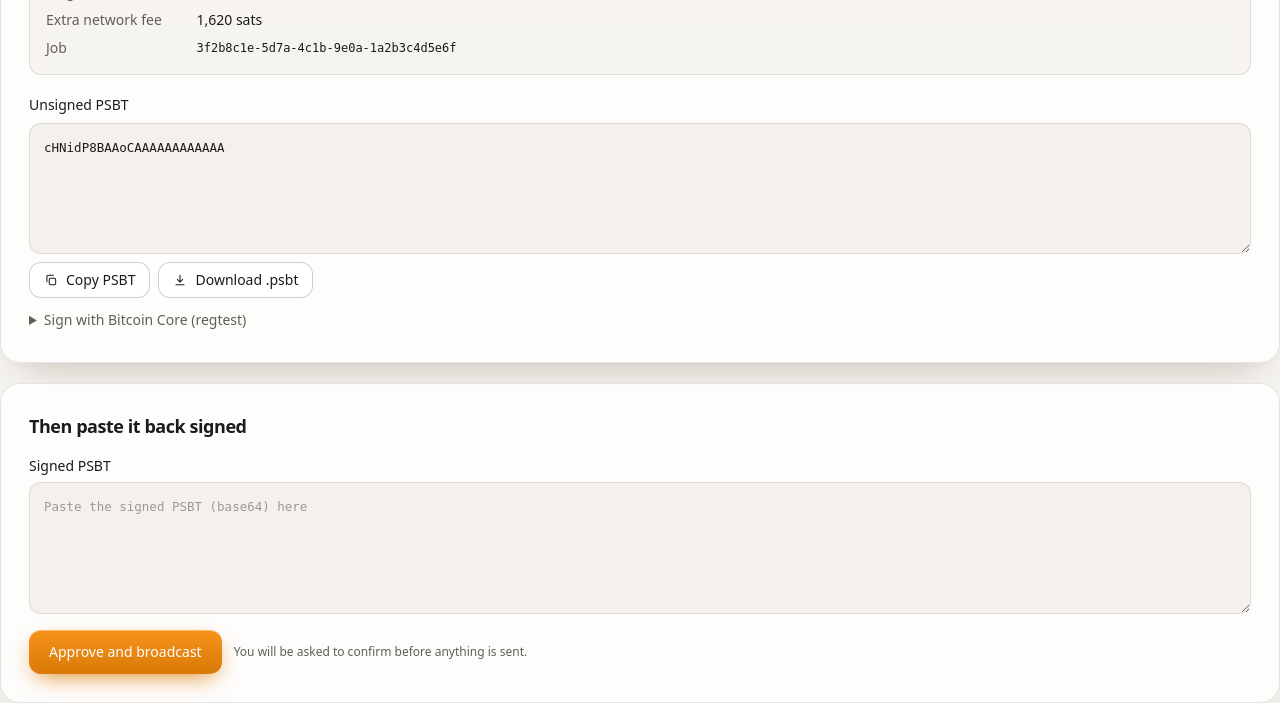
Scenario: Handoff approval › keeps the modal open and shows the reason when the API refuses
(page scrolled)
Type "c2lnbmVkLXBzYnQ=" into the text box labelled "Signed PSBT" at [640, 548], box [29,482,1251,614]
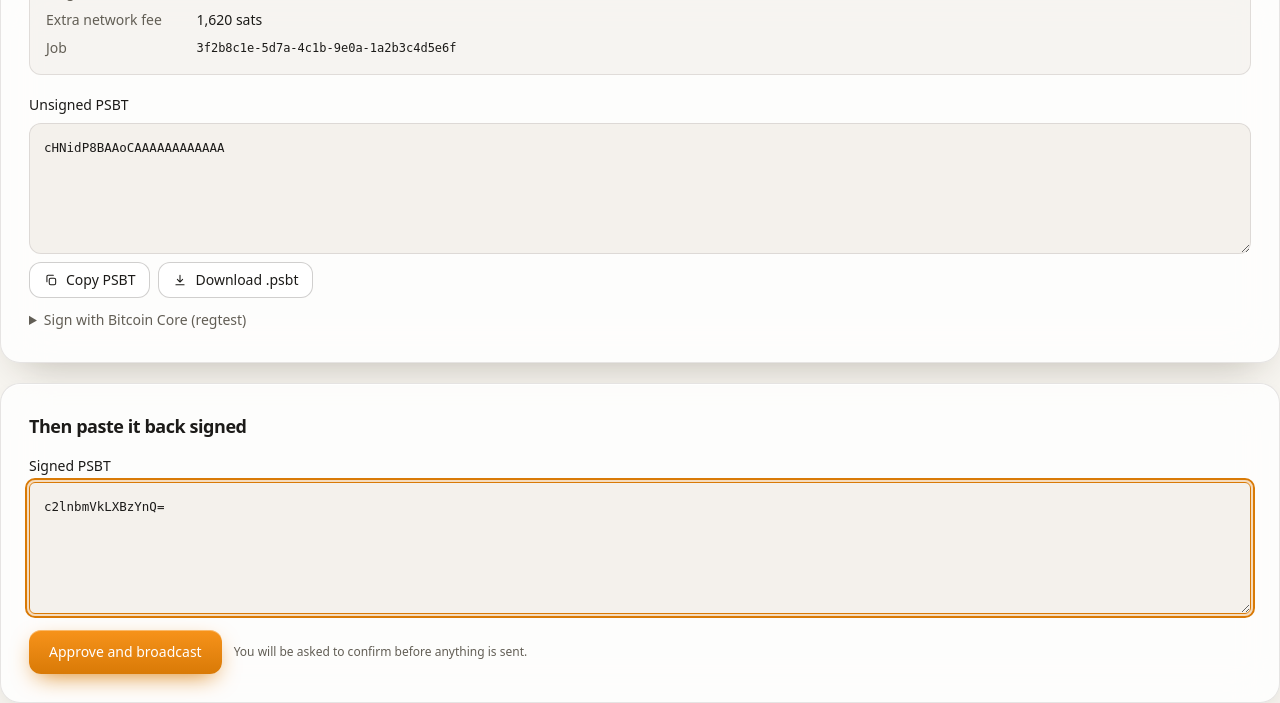
Click the button "Approve and broadcast" at [125, 652], box [29,630,222,674]
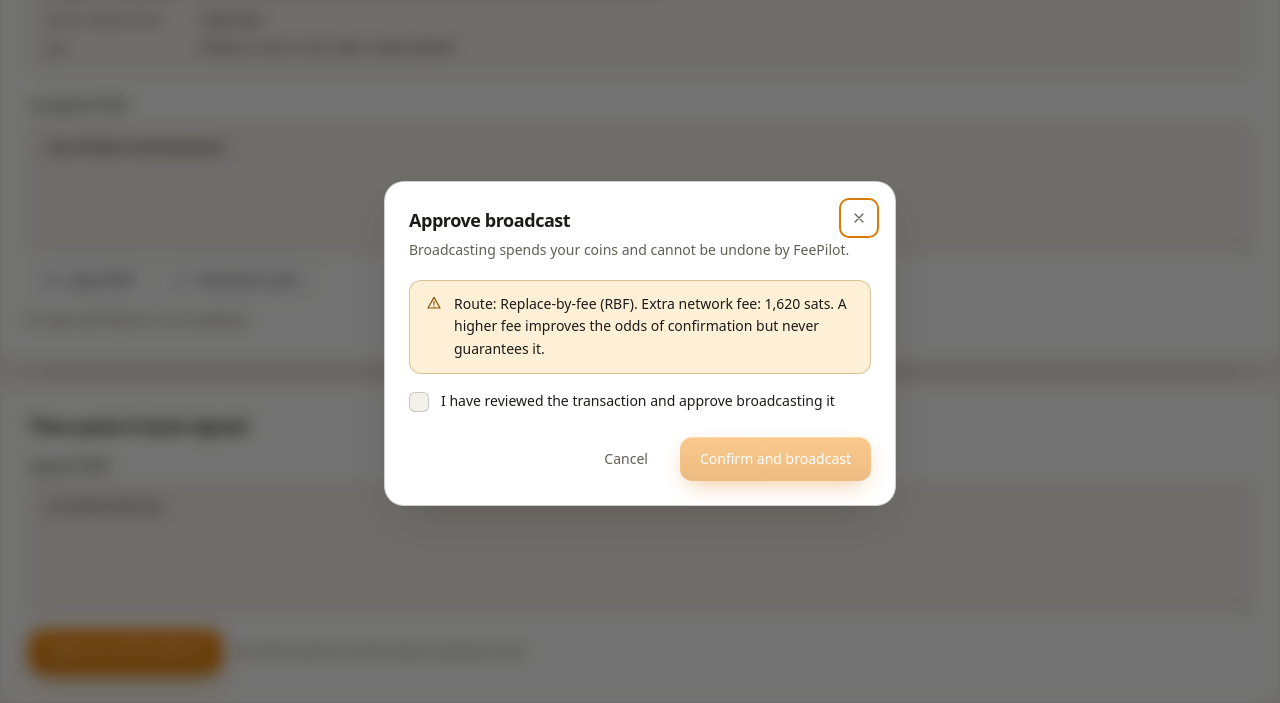
Click the checkbox at [419, 402], box [409,392,429,412]
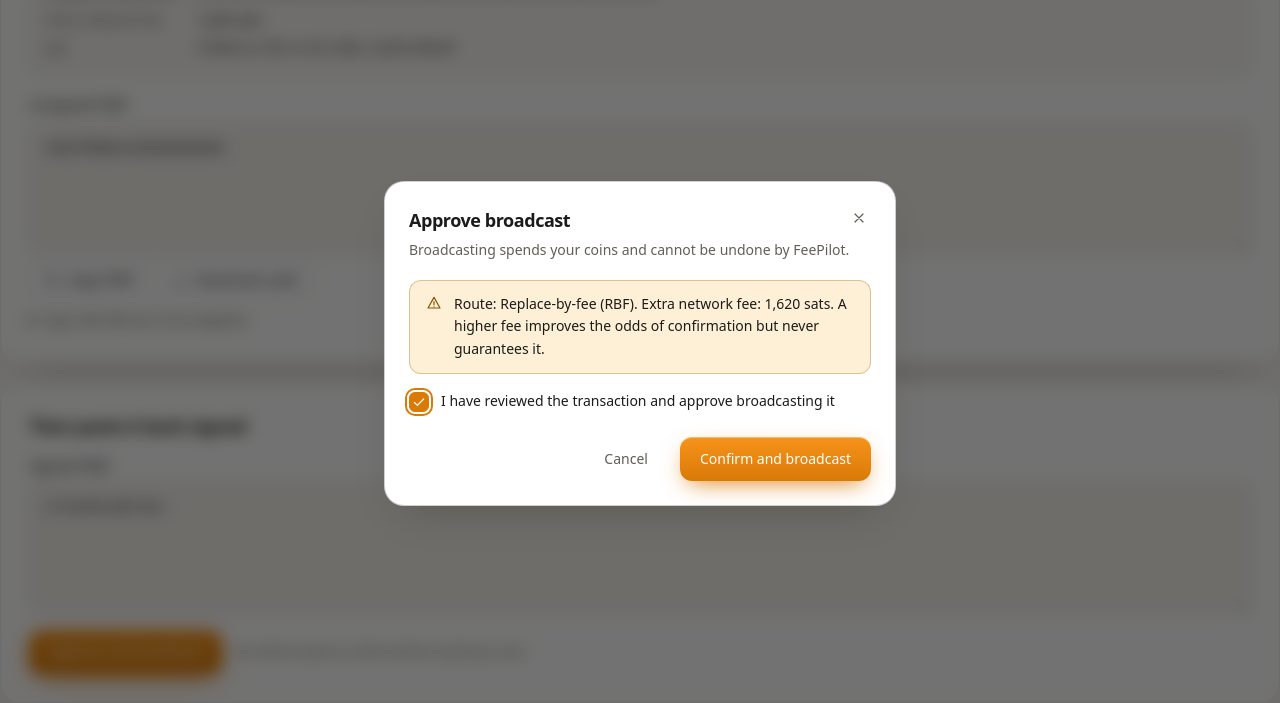
Click the button "Confirm and broadcast" at [776, 458], box [680,436,871,480]
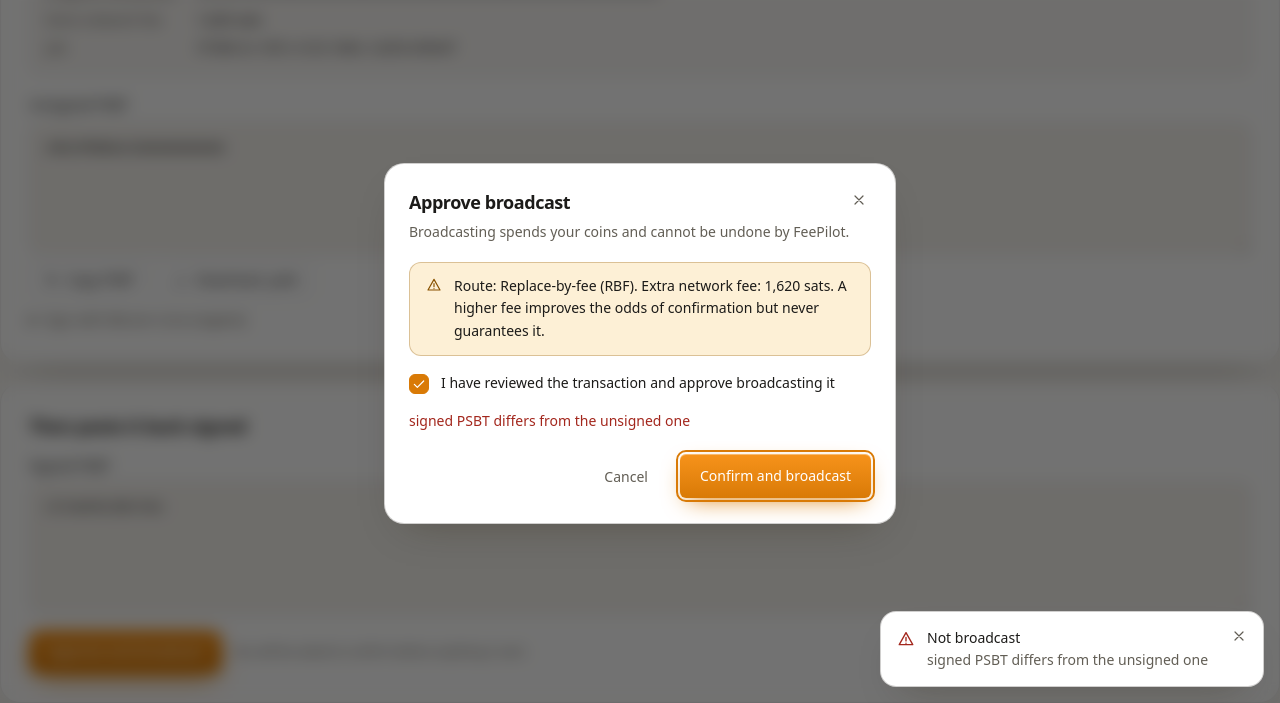
Expected: the dialog is shown, [384,162,896,524]
Expected: the text "signed PSBT differs from the unsigned one" is shown, [927,650,1219,670]
